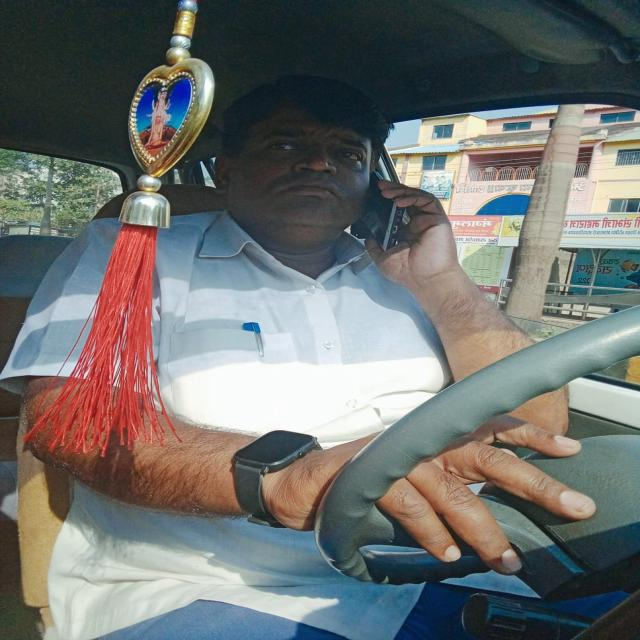mobile: (355, 191, 420, 266)
person: (219, 84, 386, 236)
